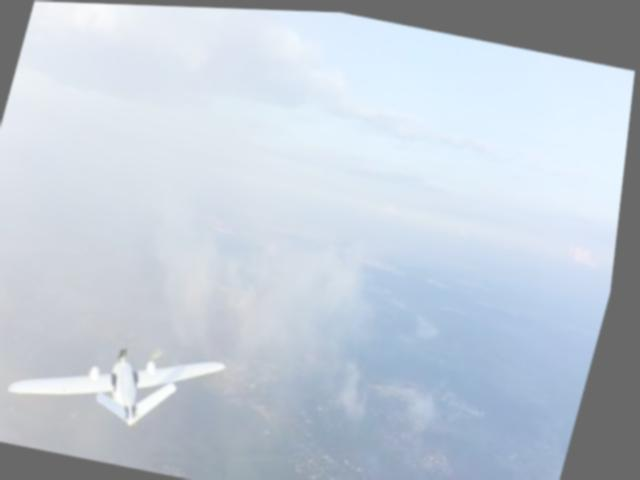uav: (5, 319, 239, 440)
